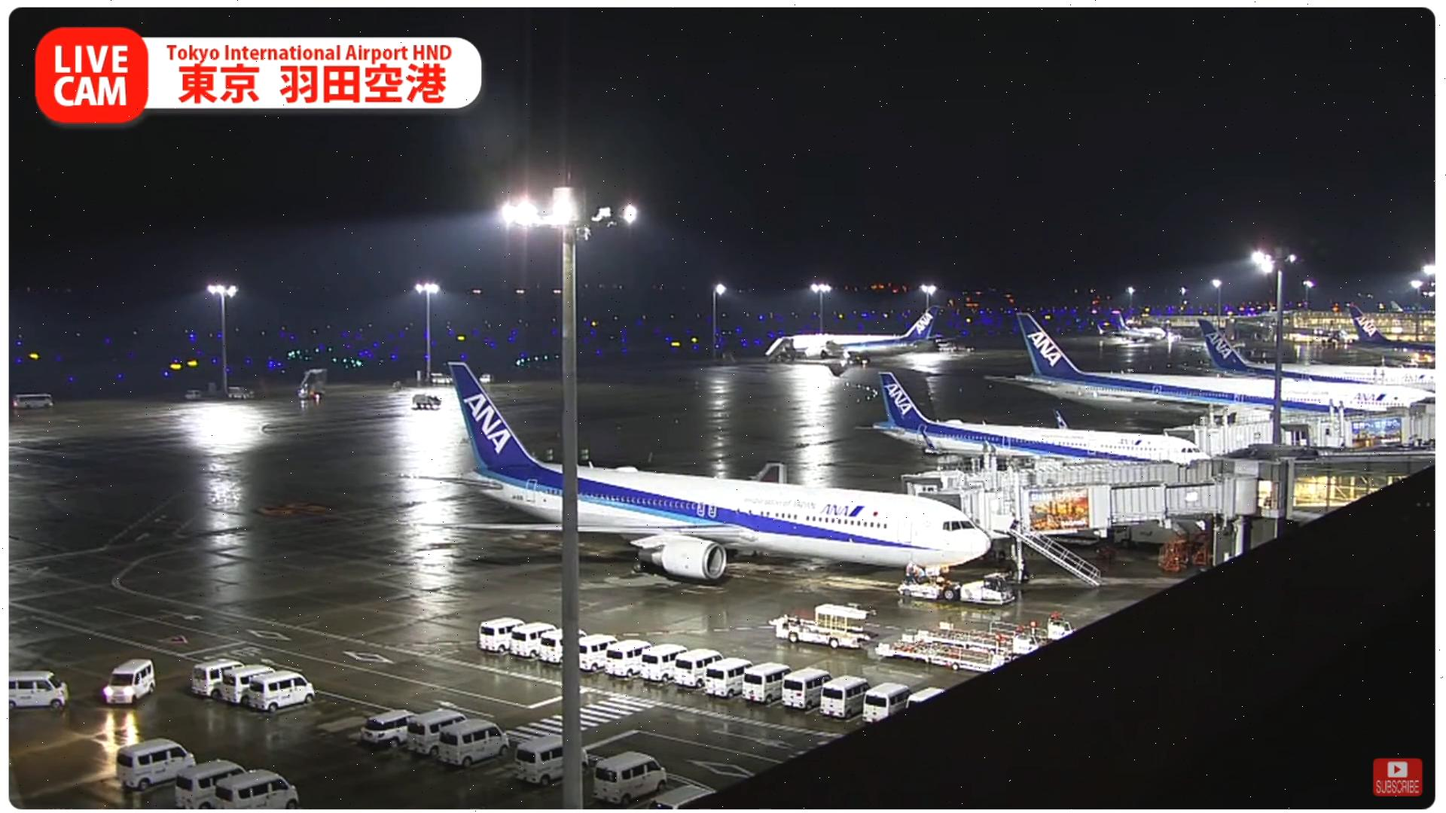Aerobridge: (927, 475, 1249, 541), (902, 461, 1219, 494)
Airplane: (384, 360, 990, 589)
JCPL: (863, 638, 1018, 673), (895, 625, 1050, 656)
Skyloader: (758, 598, 872, 653)
Tow Tug: (896, 572, 1024, 609)
Window: (1293, 468, 1419, 517)
